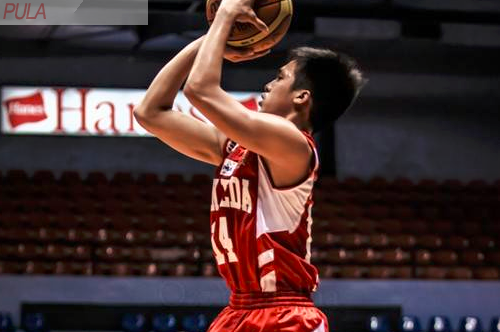ball: (204, 1, 294, 59)
player: (133, 31, 362, 331)
